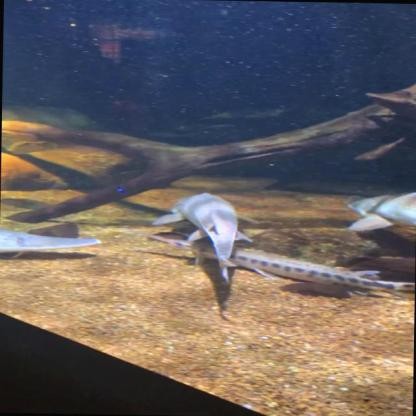fish: (119, 226, 416, 302), (0, 224, 102, 258)
shark: (154, 188, 257, 284)
